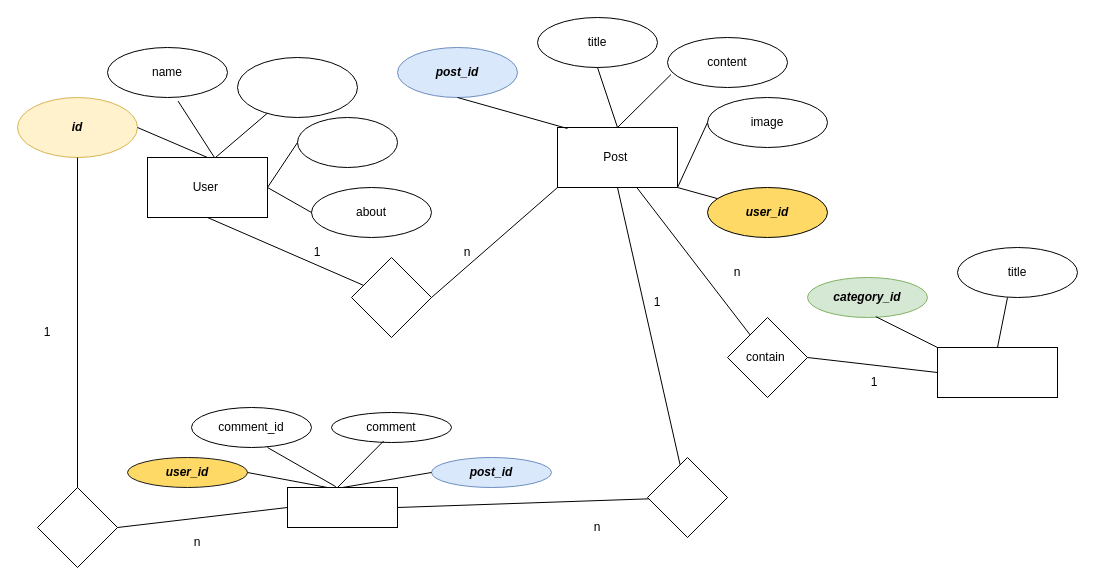
The diagram is 1095 pixels wide and 585 high, and some of its shapes have lost their labels. The shapes that lost their labels are listed below. From the top down, each one's centre as x and y in pixels, then its label:
At point 297,87: "email(username)".
At point 347,142: "password".
At point 391,297: "ca create".
At point 997,372: "category".
At point 342,507: "coment".
At point 687,497: "have".
At point 77,527: "has".
